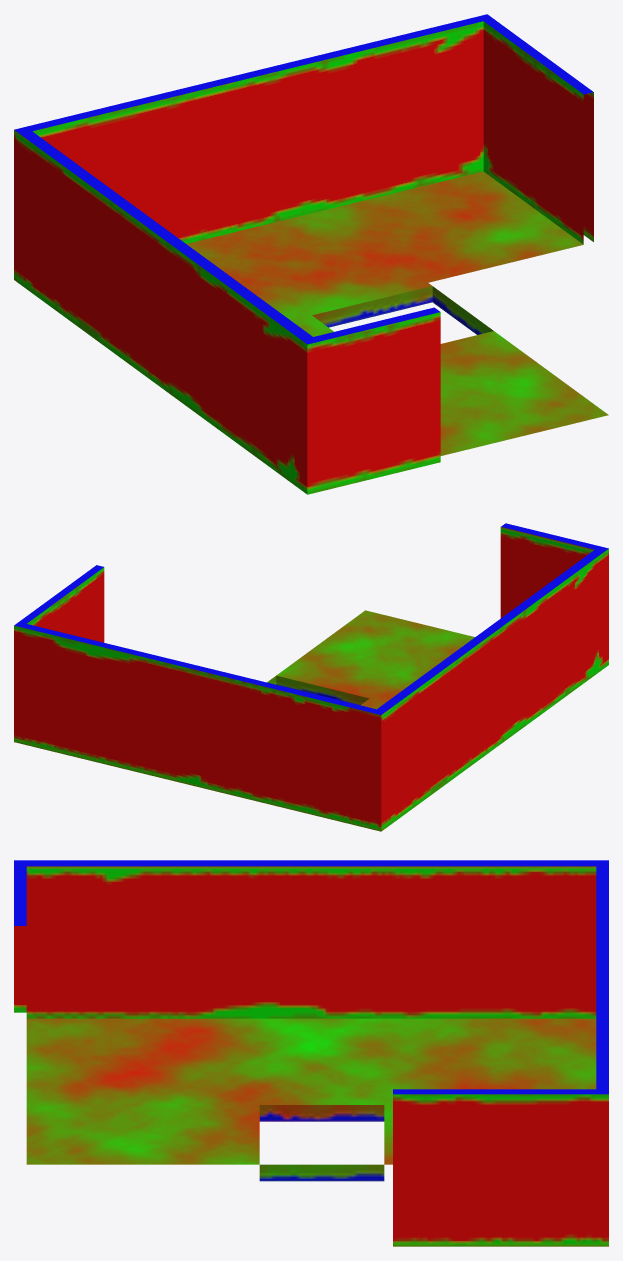
The model's file is Room.fbx.
3 renders of one model, top to bottom at view 1: azimuth 30°, elevation 25°; view 2: azimuth 150°, elevation 25°; view 3: azimuth 270°, elevation 25°, orthographic. The views are drawn at different scales.
Parts seen in each view (by area): view 1: Walls, Floor; view 2: Walls, Floor; view 3: Walls, Floor.
Boxes of the visible parts, x1,y1,x2,y2 form: Walls: (14,14,593,494); Floor: (186,171,608,455); Walls: (14,523,608,831); Floor: (267,610,474,709); Walls: (14,860,608,1246); Floor: (26,1018,596,1181).
Bounding box in the file's own units: 8.12 × 2.73 × 8.72.
2 materials, 2 textured.
